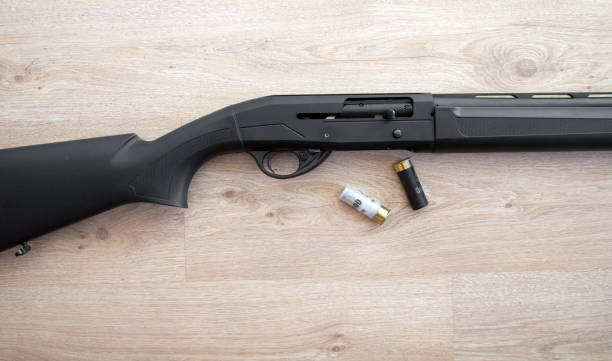gun: (0, 91, 612, 256)
